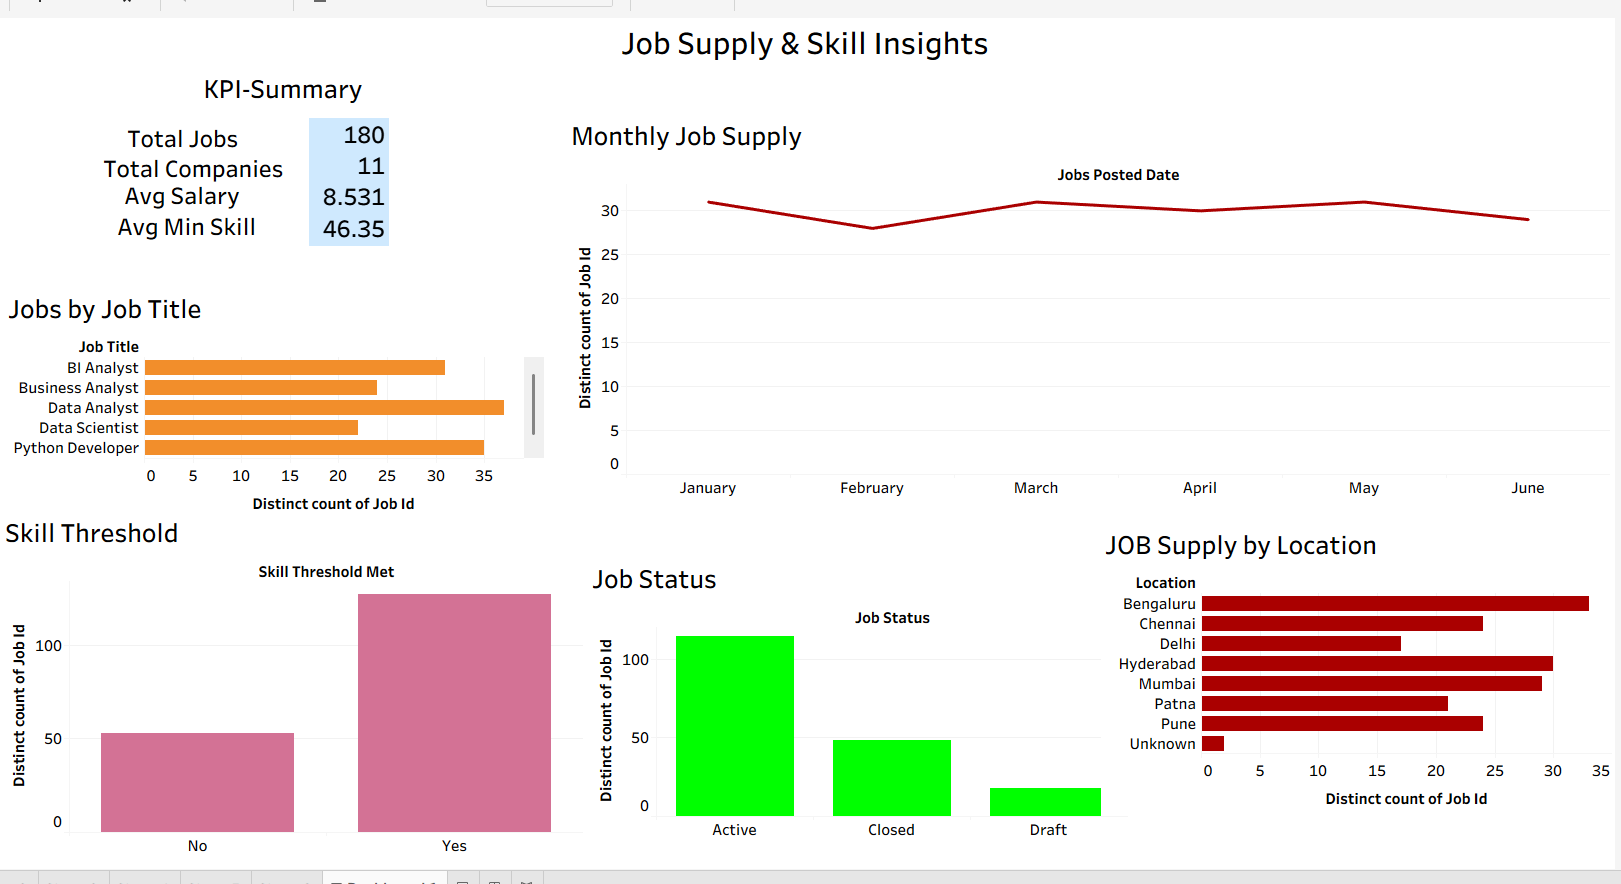

Layout of this report page (visuals, bound fields, positions):
{"tool":"tableau","page":{"name":"Dashboard 1","canvas":[1620,860],"ordinal":0},"visuals":[{"type":"title","box":[8,8,1604,49]},{"type":"text","box":[205,62,166,35]},{"type":"worksheet","title":"Sheet 5","mark":"Automatic","rows":["job_id"],"cols":["jobs_posted_date"],"box":[572,105,1043,385]},{"type":"worksheet","title":"Sheet 1","mark":"Automatic","box":[314,109,172,138]},{"type":"text","box":[129,111,128,35]},{"type":"text","box":[105,143,187,32]},{"type":"text","box":[126,170,122,32]},{"type":"text","box":[119,201,146,32]},{"type":"worksheet","title":"Sheet 3","mark":"Automatic","rows":["job_title"],"cols":["job_id"],"box":[9,278,540,234]},{"type":"worksheet","title":"Sheet 6","mark":"Automatic","rows":["job_id"],"cols":["skill_threshold_met"],"box":[6,502,582,346]},{"type":"worksheet","title":"Sheet 2","mark":"Automatic","rows":["location"],"cols":["job_id"],"box":[1106,514,511,298]},{"type":"worksheet","title":"Sheet 4","mark":"Automatic","rows":["job_id"],"cols":["job_status"],"box":[593,548,540,284]}]}

Visuals, with their boxes in screenshot pixels (x1, y1, x2, y2), scaled from the page's 1620x860 canvas onto the 1621x884 screenshot:
title: x1=8, y1=8, x2=1613, y2=59
text: x1=205, y1=64, x2=371, y2=100
"Sheet 5" worksheet: x1=572, y1=108, x2=1616, y2=504
"Sheet 1" worksheet: x1=314, y1=112, x2=486, y2=254
text: x1=129, y1=114, x2=257, y2=150
text: x1=105, y1=147, x2=292, y2=180
text: x1=126, y1=175, x2=248, y2=208
text: x1=119, y1=207, x2=265, y2=240
"Sheet 3" worksheet: x1=9, y1=286, x2=549, y2=526
"Sheet 6" worksheet: x1=6, y1=516, x2=588, y2=872
"Sheet 2" worksheet: x1=1107, y1=528, x2=1618, y2=835
"Sheet 4" worksheet: x1=593, y1=563, x2=1134, y2=855
